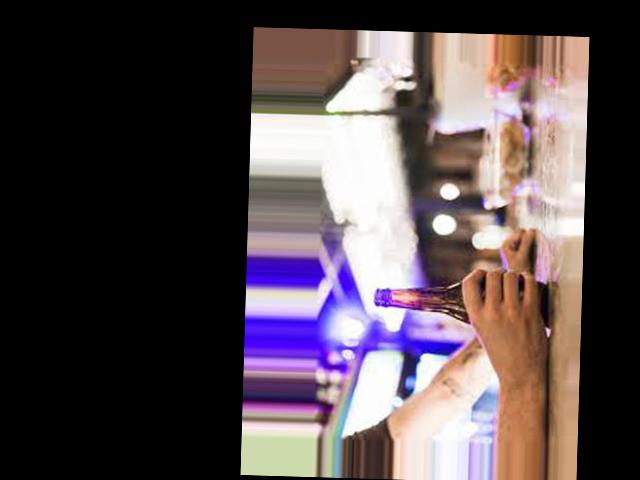beer: (373, 277, 548, 326)
